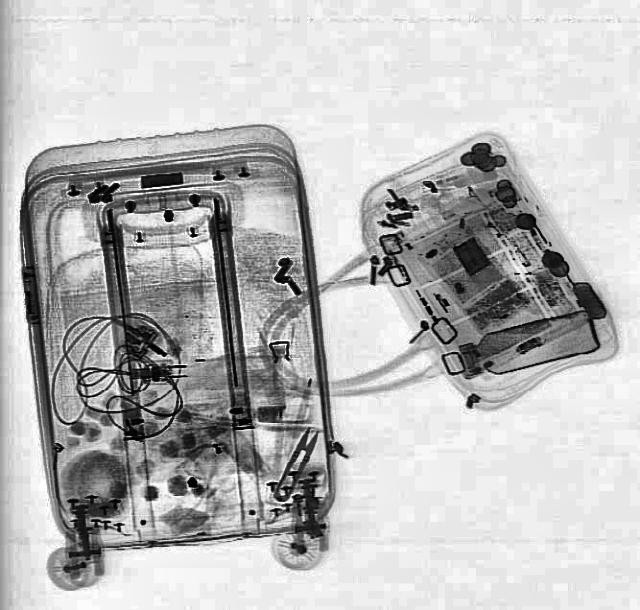Scissors: (268, 426, 322, 504)
